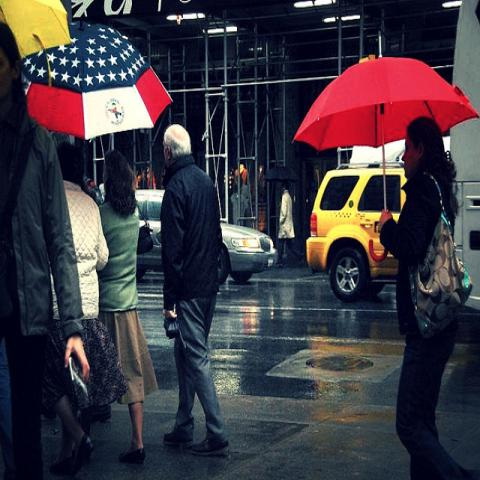car: (134, 187, 277, 288), (306, 162, 394, 303)
